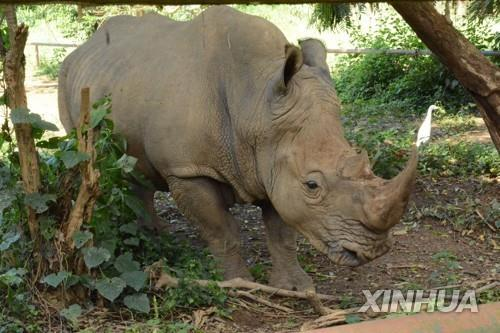Rhinoceros: (39, 5, 432, 298)
